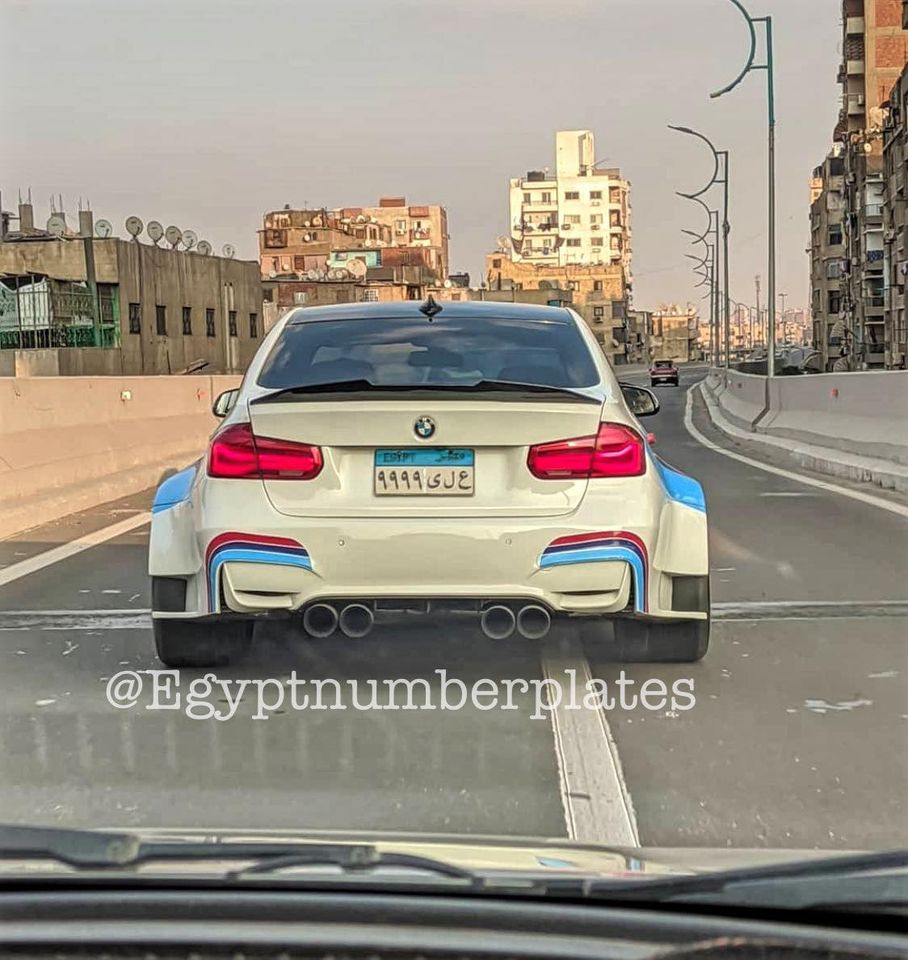carpl: (369, 452, 477, 499)
